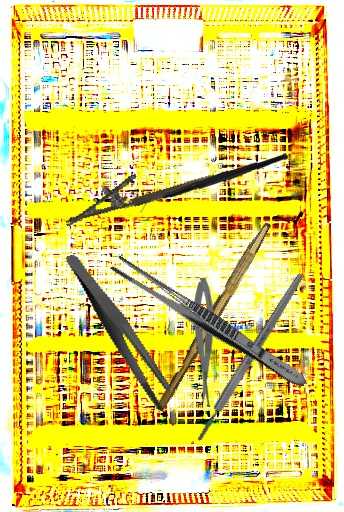Chopper: (138, 147, 289, 220)
Dressing Forceps: (107, 253, 312, 393), (64, 238, 177, 424)
Micro Scissor: (193, 278, 214, 406)
Needle Holder: (58, 153, 217, 227)
Scalpel Handle: (154, 218, 272, 415), (193, 270, 308, 444)
